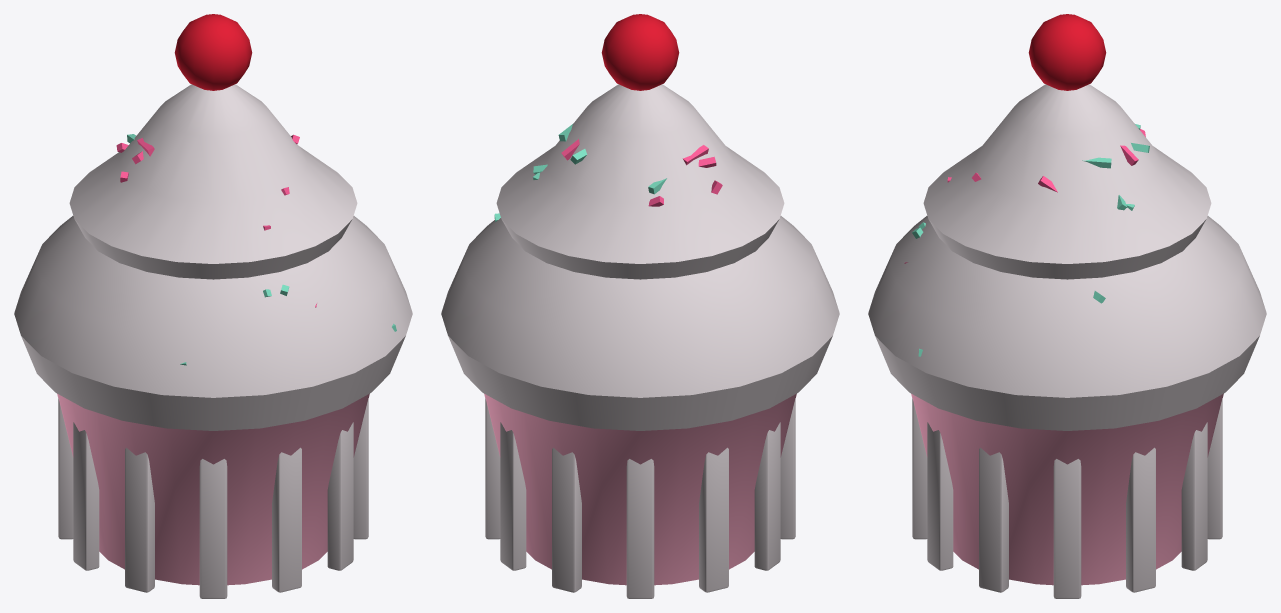
Rendered from HeroCandy.fbx.
3 renders of one model, left to right at view 1: azimuth 30°, elevation 25°; view 2: azimuth 150°, elevation 25°; view 3: azimuth 270°, elevation 25°, orthographic.
Visible parts, largest first — view 1: HeroCandy; view 2: HeroCandy; view 3: HeroCandy.
Boxes of the visible parts, x1,y1,x2,y2 form: HeroCandy: [14, 14, 412, 598]; HeroCandy: [441, 14, 839, 598]; HeroCandy: [868, 14, 1266, 598].
Size of the model in its own units: 720 by 1030 by 720.
